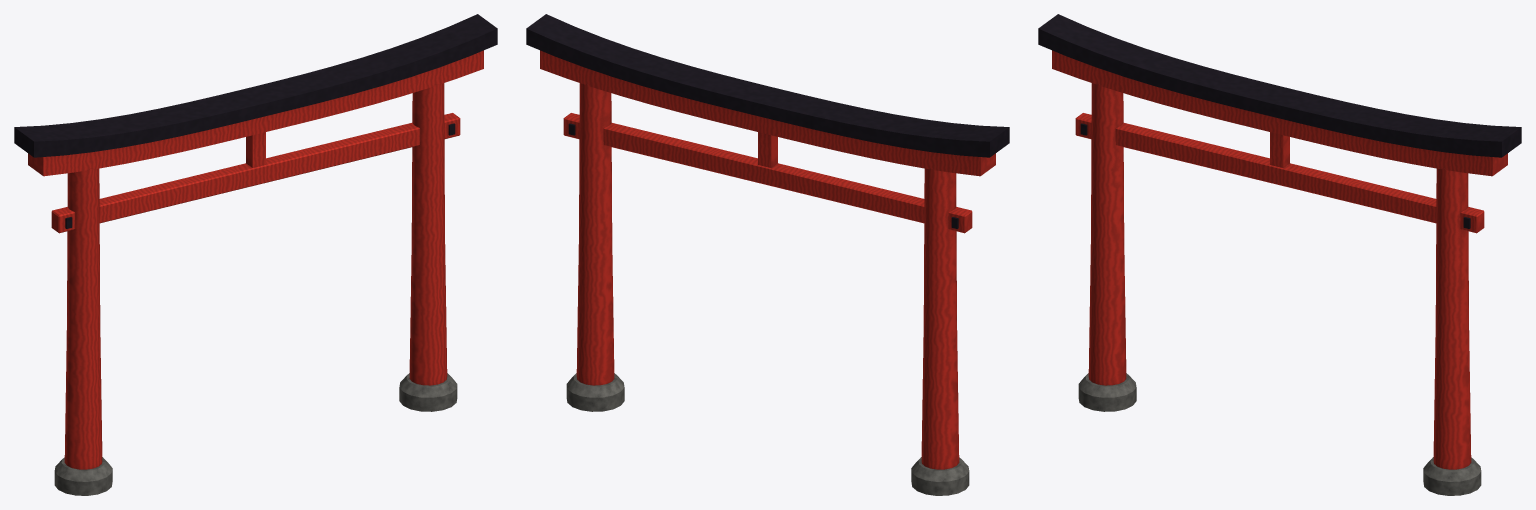
Rendered from entrance_torii.fbx.
3 views of the same model, side by side, from view 1: azimuth 30°, elevation 25°; view 2: azimuth 150°, elevation 25°; view 3: azimuth 330°, elevation 25° (orthographic).
Parts seen in each view (by area): view 1: entrance_torii; view 2: entrance_torii; view 3: entrance_torii.
Boxes of the visible parts, bbox=[...] form: entrance_torii: bbox=[14, 14, 497, 495]; entrance_torii: bbox=[526, 14, 1009, 495]; entrance_torii: bbox=[1038, 14, 1521, 495].
Size of the model in its own units: 2420 by 1815 by 264.
1 material, 1 textured.
